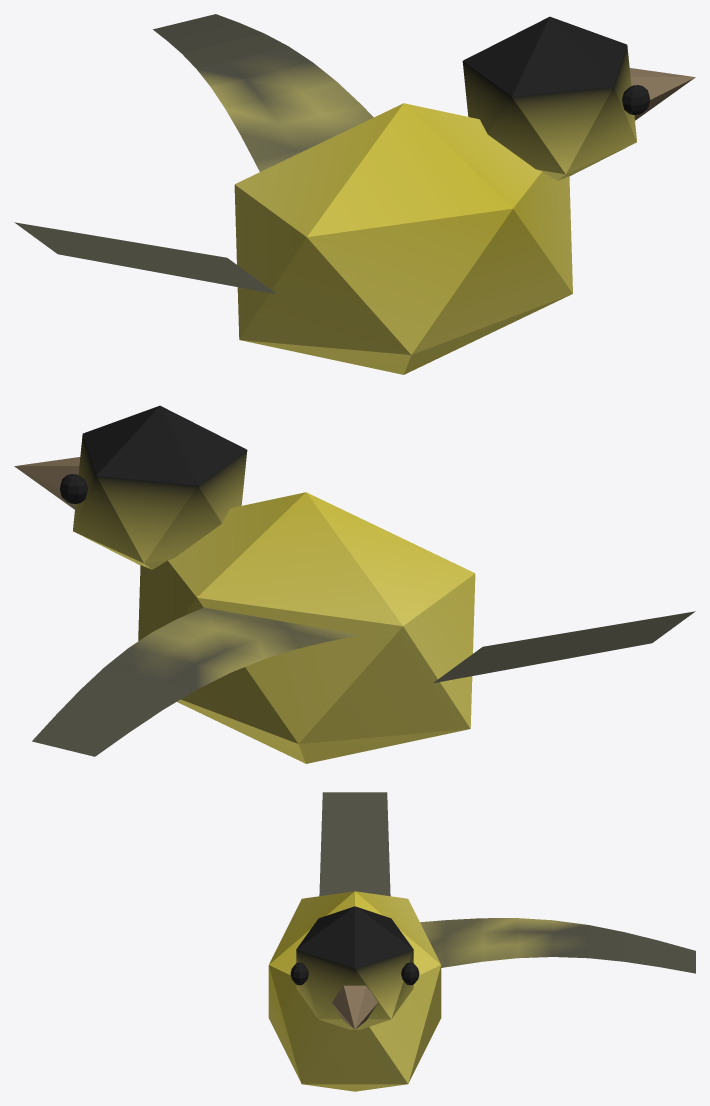
The model's file is forest_bird_fly.glb.
The picture shows the model from 3 angles, top to bottom: view 1: azimuth 30°, elevation 25°; view 2: azimuth 150°, elevation 25°; view 3: azimuth 270°, elevation 25°; orthographic projection. The views are drawn at different scales.
Visible parts, largest first — view 1: BirdBody, WingL; view 2: BirdBody, WingL; view 3: BirdBody, WingL.
Boxes of the visible parts, <box> form: BirdBody: <box>14,16,695,374</box>; WingL: <box>153,14,373,171</box>; BirdBody: <box>14,405,695,763</box>; WingL: <box>32,607,358,756</box>; BirdBody: <box>268,792,441,1091</box>; WingL: <box>420,918,695,973</box>.
Size of the model in its own units: 1.22 by 0.57 by 1.48.
